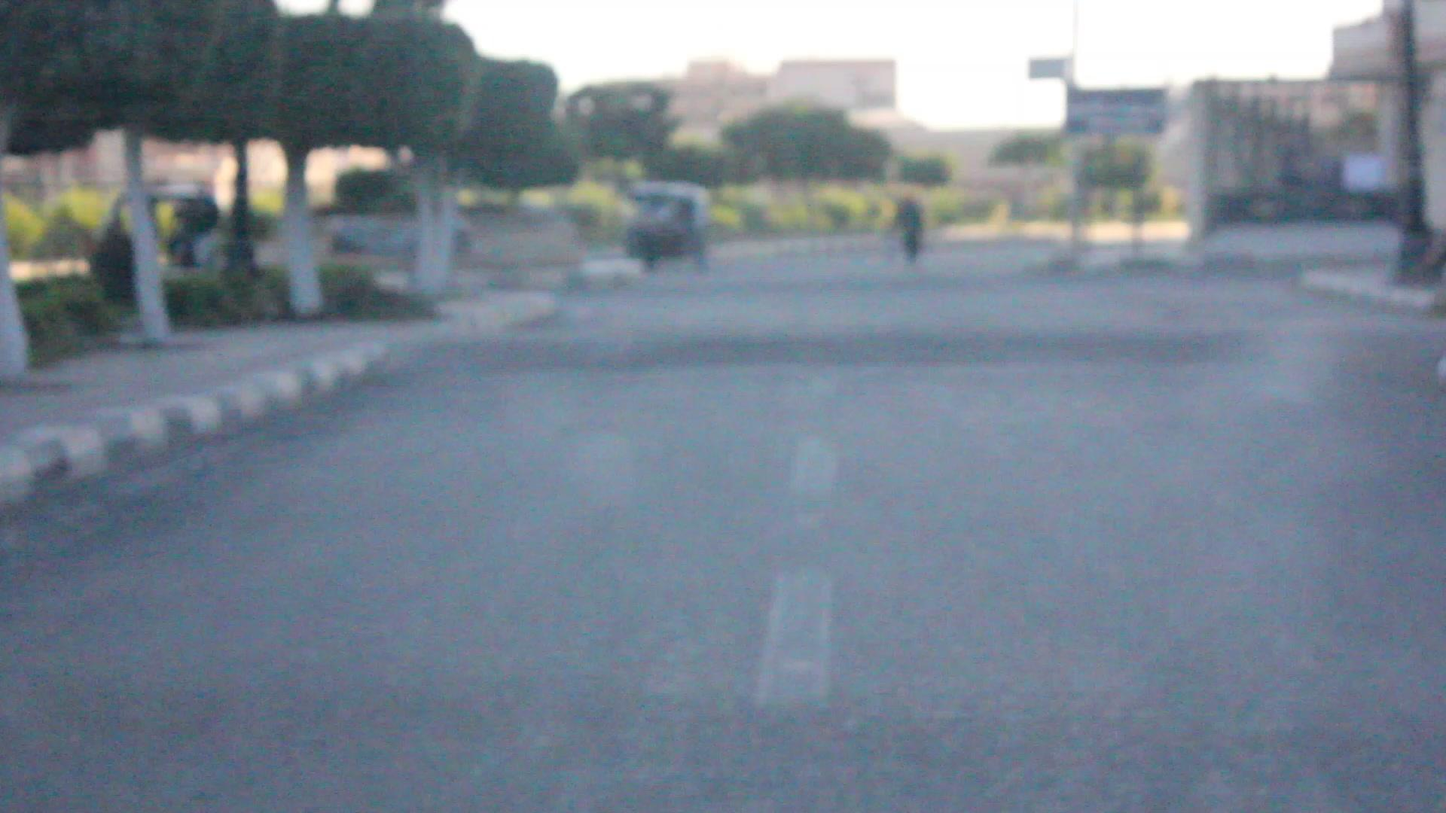Bump: (416, 317, 1401, 366)
